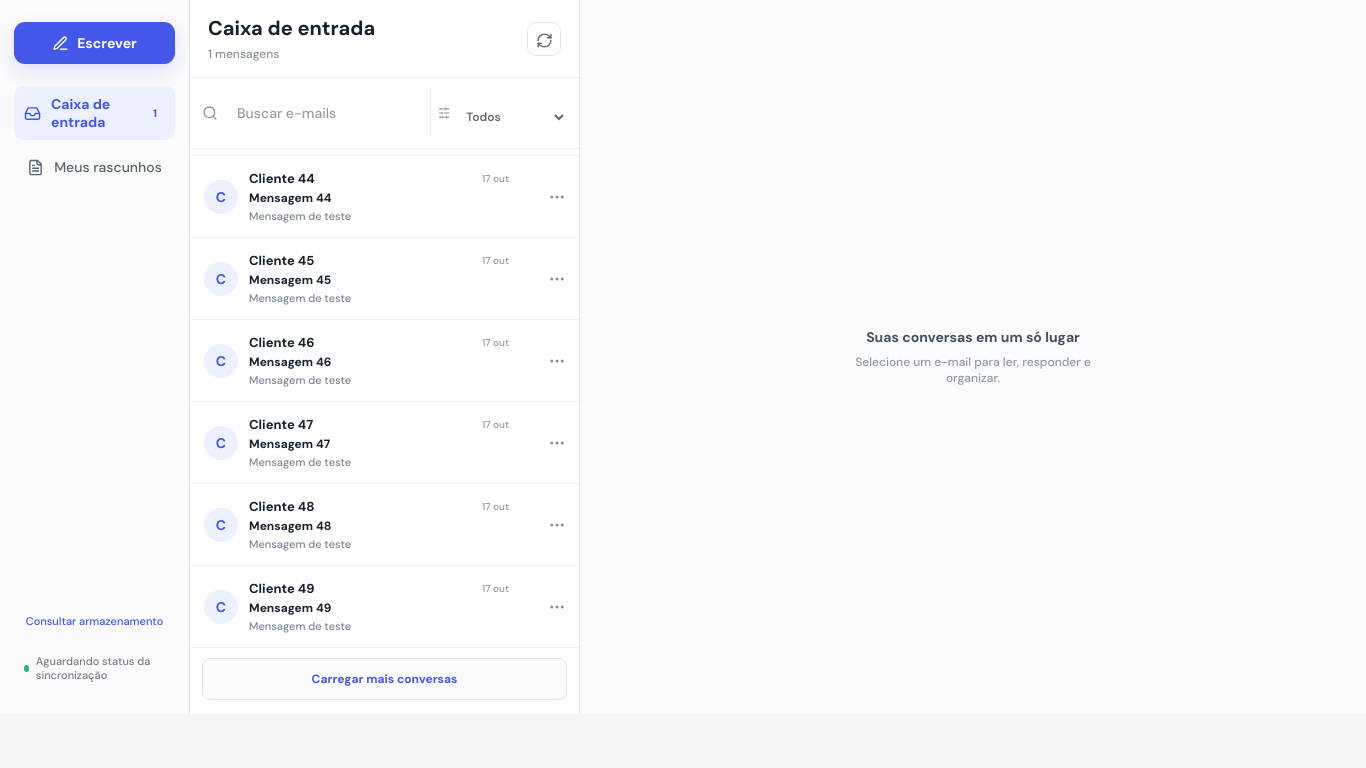
Test case: Mailbox › carrega conversas seguintes pelo cursor sem apagar as já exibidas
(page scrolled)
Click the button "Carregar mais conversas" at coordinates (384, 679), box [202, 658, 567, 700]
(page scrolled)
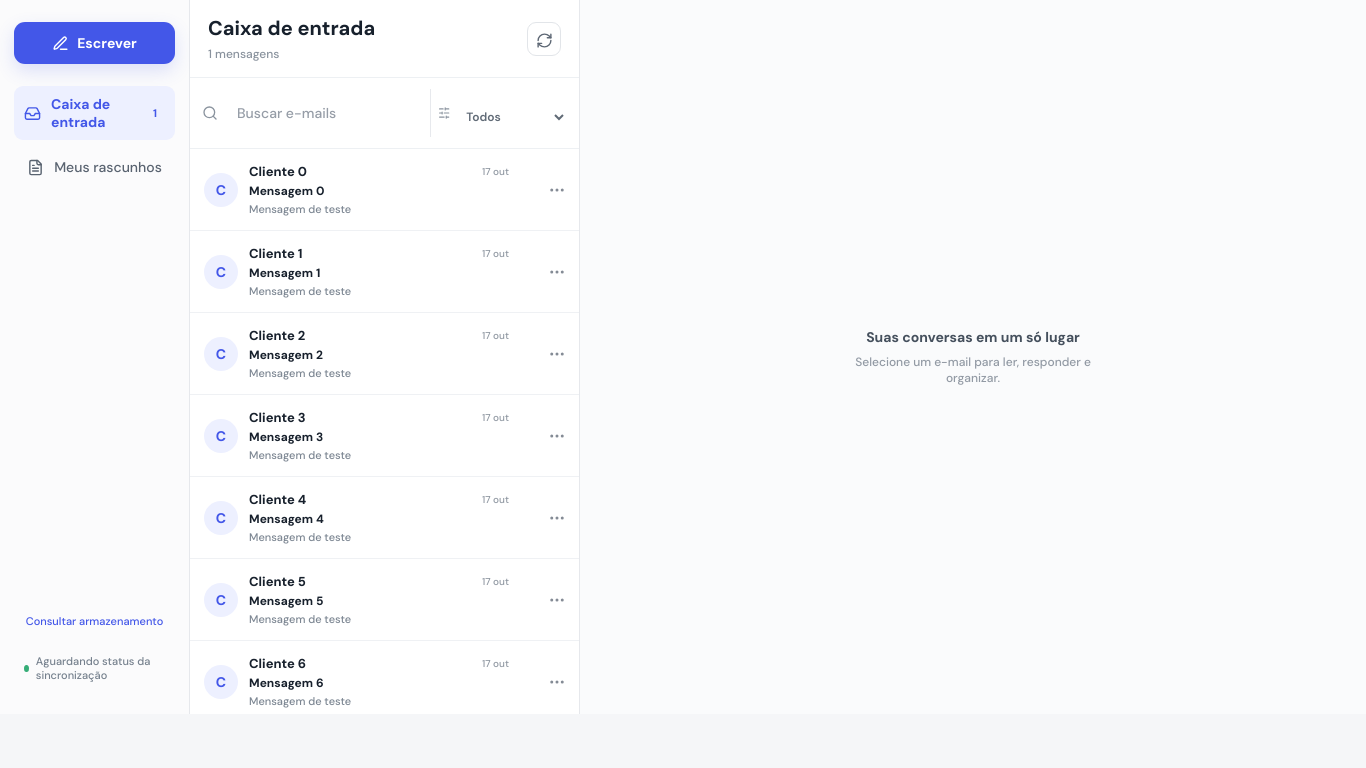
Now the text "Mensagem 0" is shown, box [249, 183, 324, 199]
